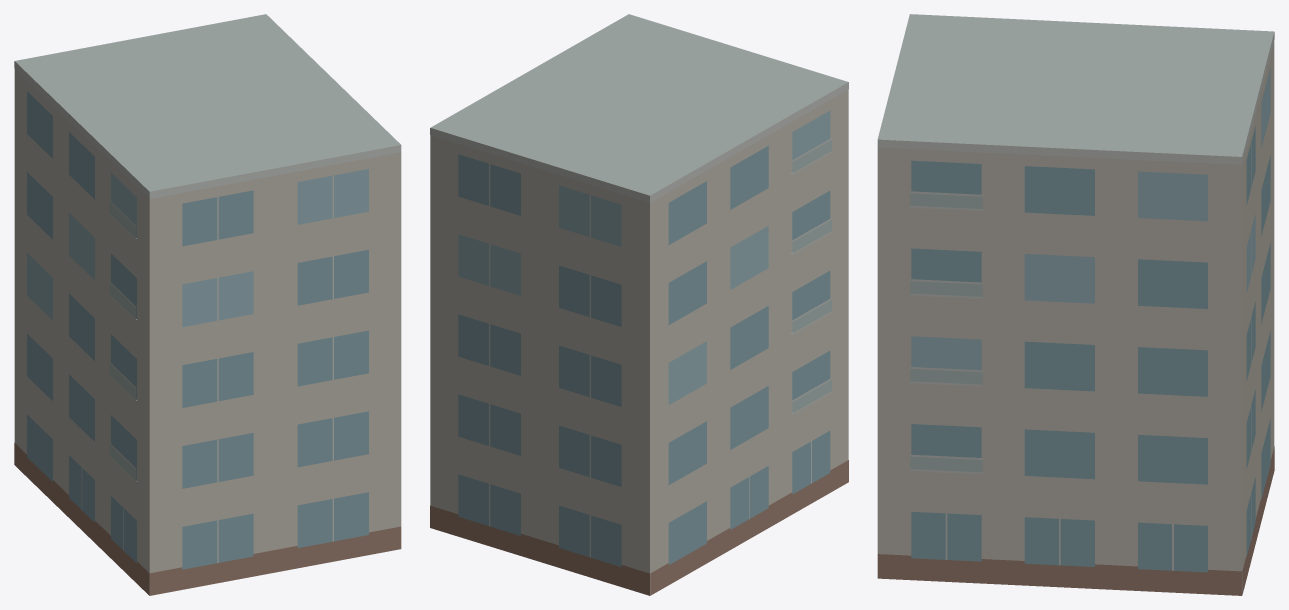
The model's file is survey-upis-32573260.glb.
The picture shows the model from 3 angles, left to right: view 1: azimuth 30°, elevation 25°; view 2: azimuth 150°, elevation 25°; view 3: azimuth 270°, elevation 25°; orthographic projection. The views are drawn at different scales.
Parts seen in each view (by area): view 1: survey-upis-32573260.tmp; view 2: survey-upis-32573260.tmp; view 3: survey-upis-32573260.tmp.
Part boxes in pixels (x1,y1,x2,y2): survey-upis-32573260.tmp: (14,14,401,595); survey-upis-32573260.tmp: (430,14,848,595); survey-upis-32573260.tmp: (877,14,1274,595).
Bounding box in the file's own units: 9.47 × 13.55 × 11.12.
